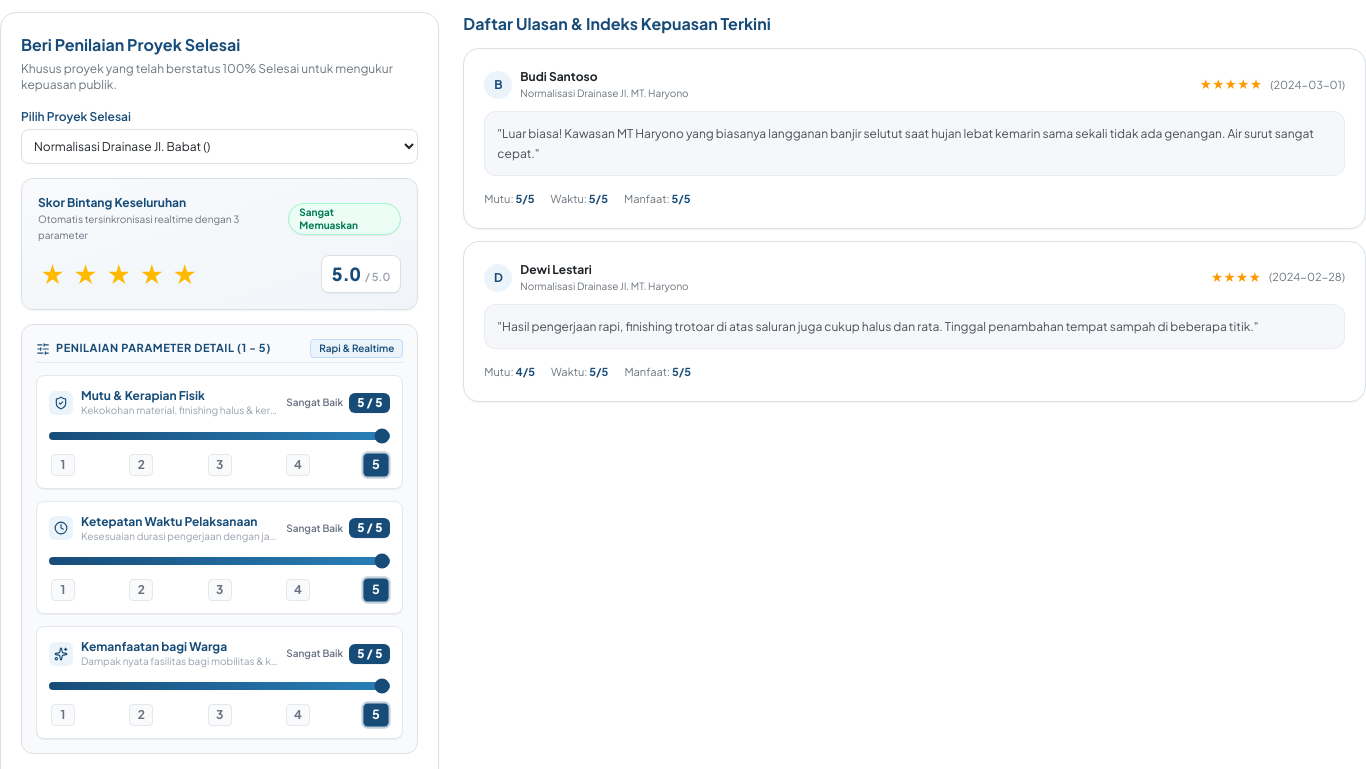
Test case: WargaDashboard › synchronizes rating parameter detail sliders and overall stars in real time
Expected: the text "5.0" is shown, left=332, top=260, right=361, bottom=288
Expected: the text "Sangat Memuaskan" is shown, left=288, top=203, right=401, bottom=235
Find step button '1' for "Mutu & Kerapian Fisik" and click it
Click the button titled "Pilih nilai 1 untuk Mutu & Kerapian Fisik" below "Mutu & Kerapian Fisik" at {"x": 63, "y": 465}, box left=51, top=454, right=75, bottom=476
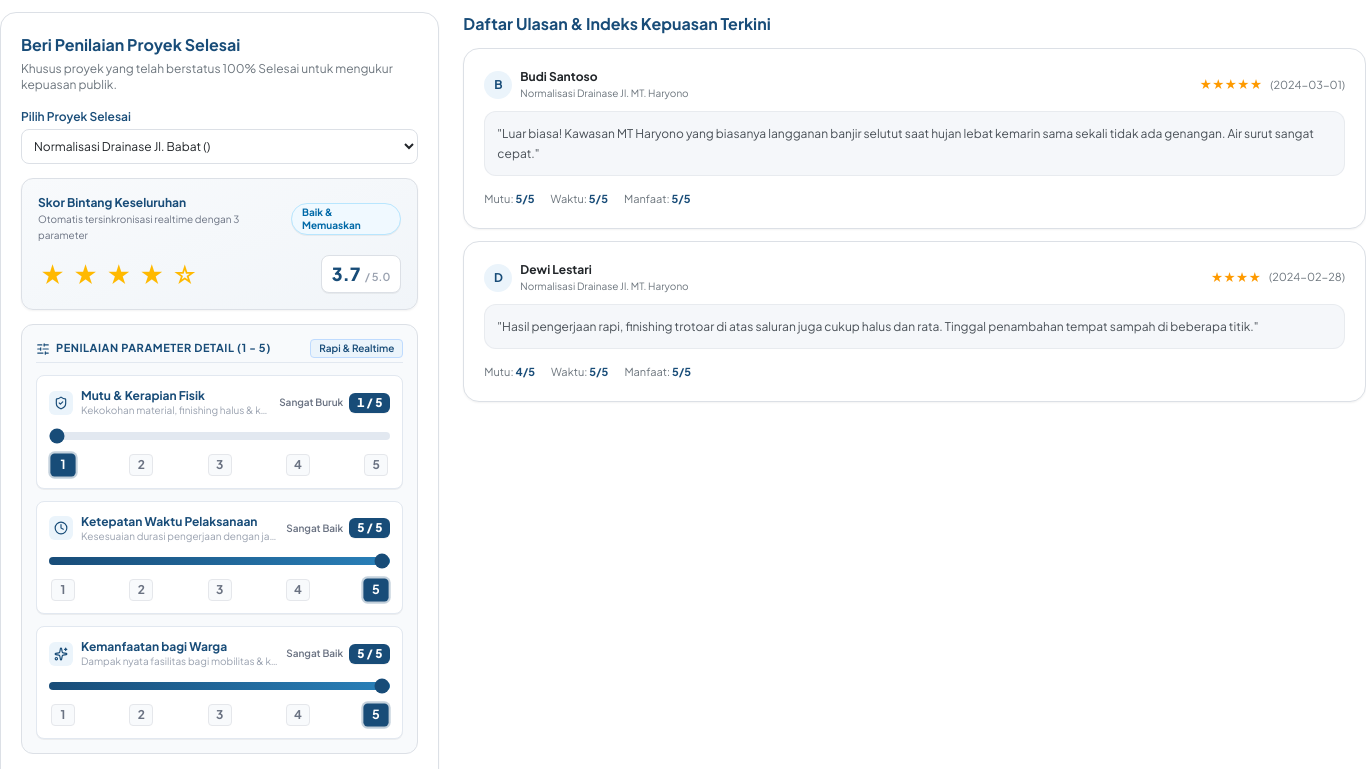
Expected: the text "3.7" is shown, left=332, top=260, right=361, bottom=288
Expected: the text "Baik & Memuaskan" is shown, left=291, top=203, right=401, bottom=235
Click overall star button for 2 stars
Click the 2nd button titled "Beri rating 2 bintang" at {"x": 86, "y": 274}, box left=71, top=256, right=100, bottom=292
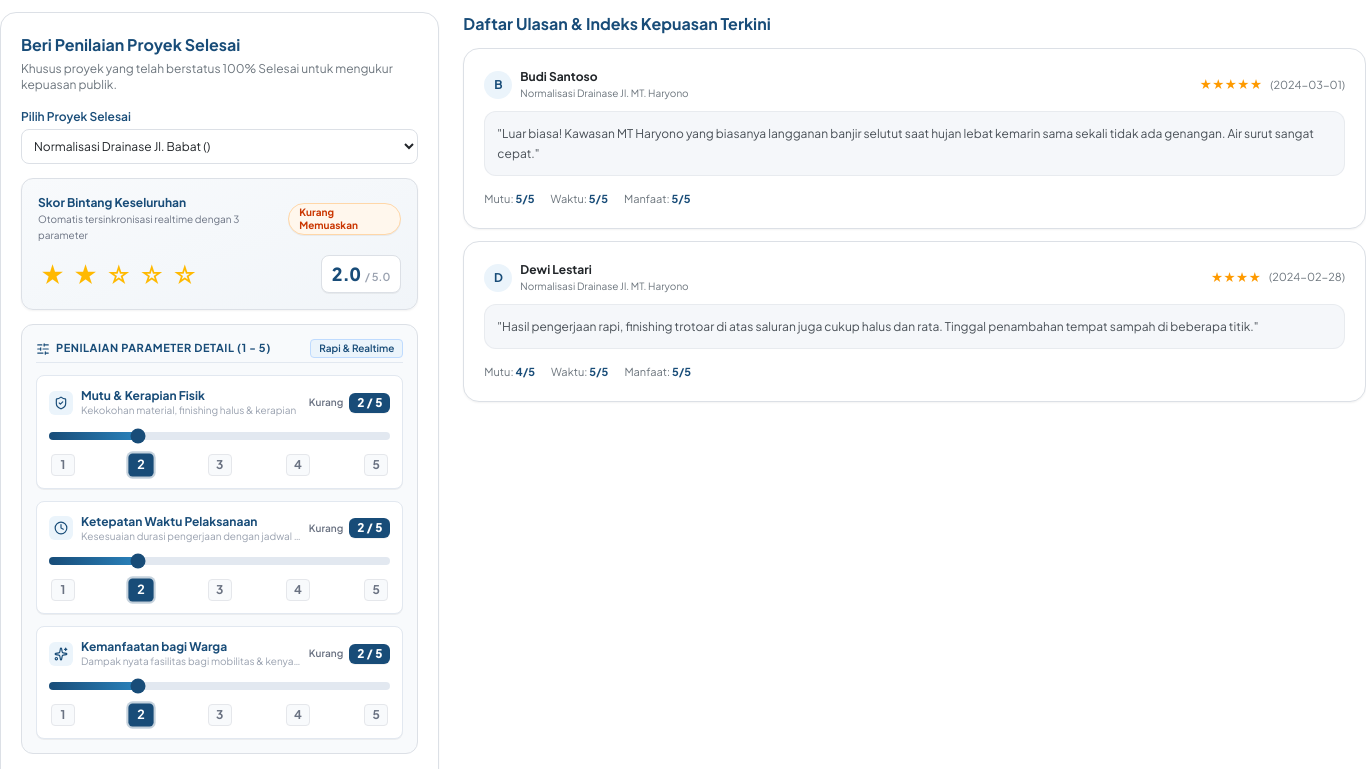
Expected: the text "2.0" is shown, left=332, top=260, right=361, bottom=288
Expected: the text "Kurang Memuaskan" is shown, left=288, top=203, right=401, bottom=235
